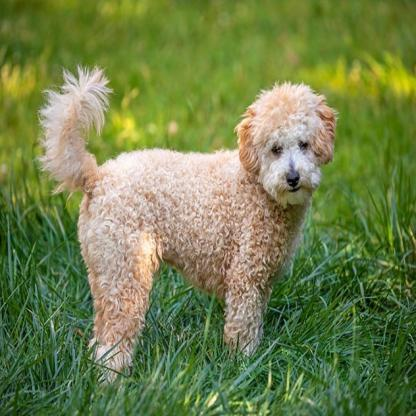dog: (32, 65, 342, 367)
